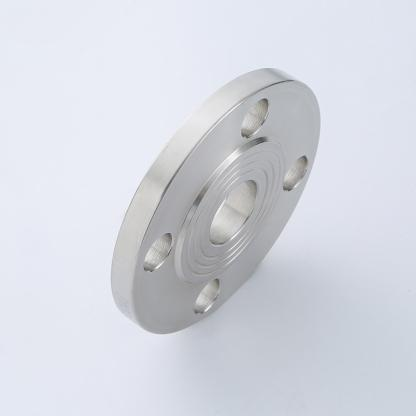FOD: (108, 66, 323, 338)
